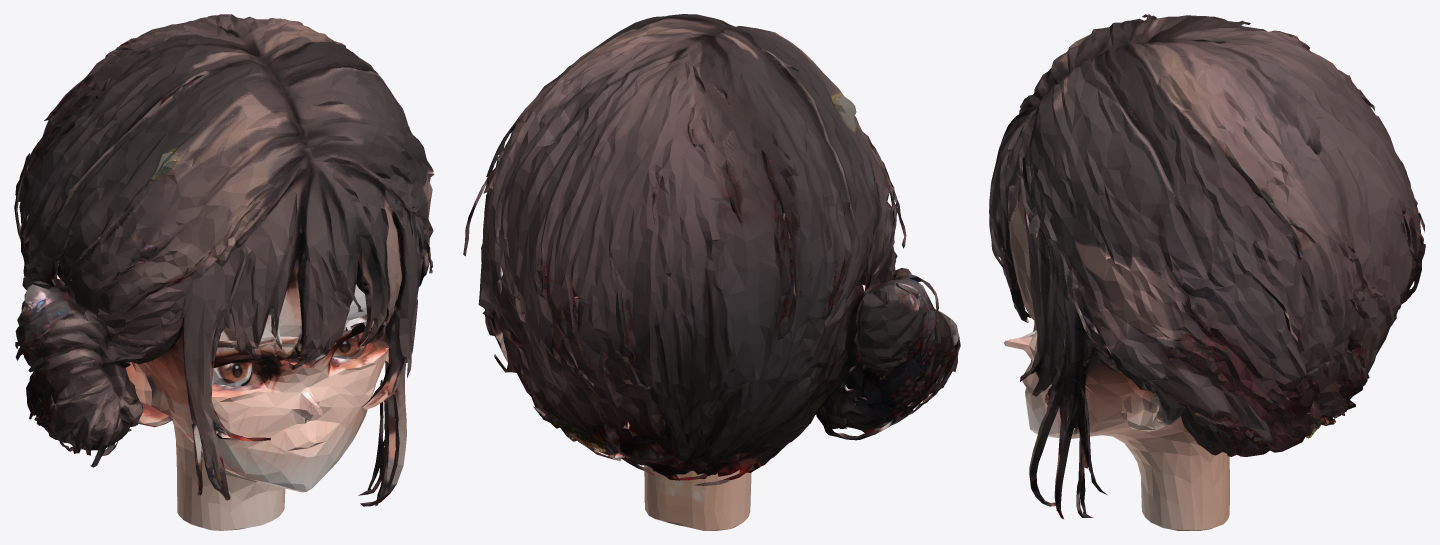
File: side_sariko_repaired_atlas.glb
3 views of the same model, side by side, from view 1: azimuth 30°, elevation 25°; view 2: azimuth 150°, elevation 25°; view 3: azimuth 270°, elevation 25° (orthographic). The views are drawn at different scales.
Visible parts, largest first — view 1: temp_mesh.ply; view 2: temp_mesh.ply; view 3: temp_mesh.ply.
Part boxes in pixels (left/top/right/bottom): temp_mesh.ply: left=14, top=14, right=434, bottom=530; temp_mesh.ply: left=463, top=14, right=960, bottom=530; temp_mesh.ply: left=989, top=14, right=1425, bottom=530.
Size of the model in its own units: 1.8 by 1.97 by 1.64.
Materials: 1 (1 with a texture image).
